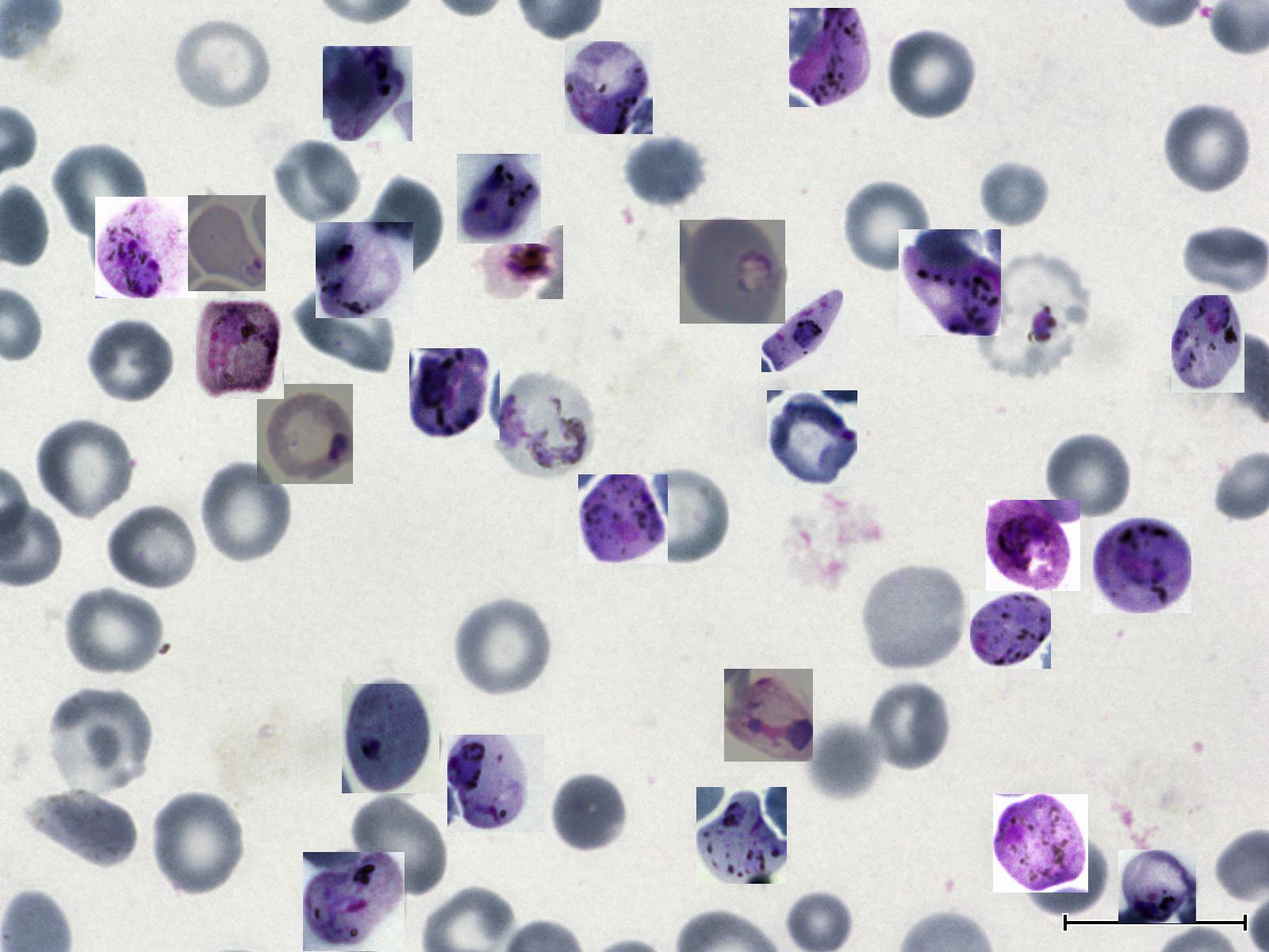Infected: (980, 254, 1090, 377), (493, 367, 595, 478), (680, 220, 785, 324), (899, 229, 1001, 336), (342, 685, 439, 794), (95, 198, 197, 299), (303, 852, 404, 951), (257, 384, 353, 484), (447, 735, 544, 832), (1093, 517, 1191, 613), (316, 222, 413, 318), (993, 794, 1088, 892), (196, 298, 284, 400), (696, 787, 787, 884), (767, 390, 857, 486), (789, 8, 876, 107), (986, 500, 1080, 591), (324, 46, 413, 141), (409, 348, 500, 440), (724, 669, 813, 762), (565, 41, 653, 134), (578, 475, 668, 564), (457, 154, 541, 244), (188, 195, 266, 291), (1171, 295, 1244, 393), (471, 225, 563, 299), (762, 288, 843, 372), (970, 589, 1051, 669), (1118, 850, 1196, 923)
Uninfected: (863, 563, 967, 670), (453, 598, 553, 699), (36, 419, 134, 520), (52, 144, 148, 245), (633, 464, 729, 565), (198, 463, 293, 565), (151, 793, 245, 896), (351, 796, 447, 896), (173, 17, 274, 112), (56, 685, 153, 783), (26, 788, 137, 873), (63, 585, 164, 678), (293, 281, 393, 372), (886, 28, 977, 121), (106, 501, 199, 592), (1162, 101, 1252, 195), (842, 179, 931, 274), (1019, 835, 1114, 922), (272, 137, 362, 226), (1044, 432, 1133, 521), (85, 316, 174, 405), (366, 177, 445, 277), (865, 681, 951, 771), (1179, 220, 1268, 300), (621, 133, 706, 210), (550, 772, 628, 854), (799, 720, 876, 801), (976, 158, 1050, 233)
